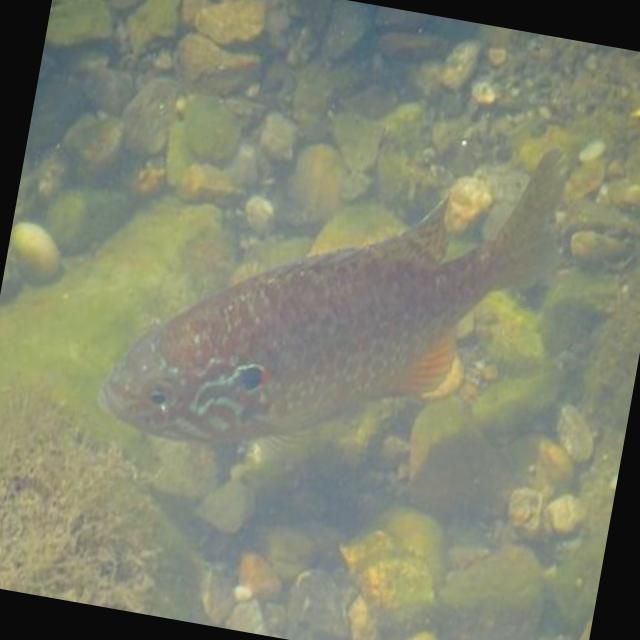Gunes Levregi: (86, 70, 587, 504)
